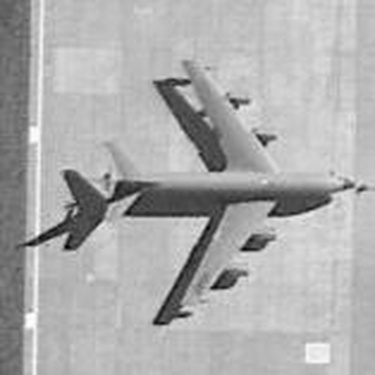airplane: (28, 39, 359, 350)
